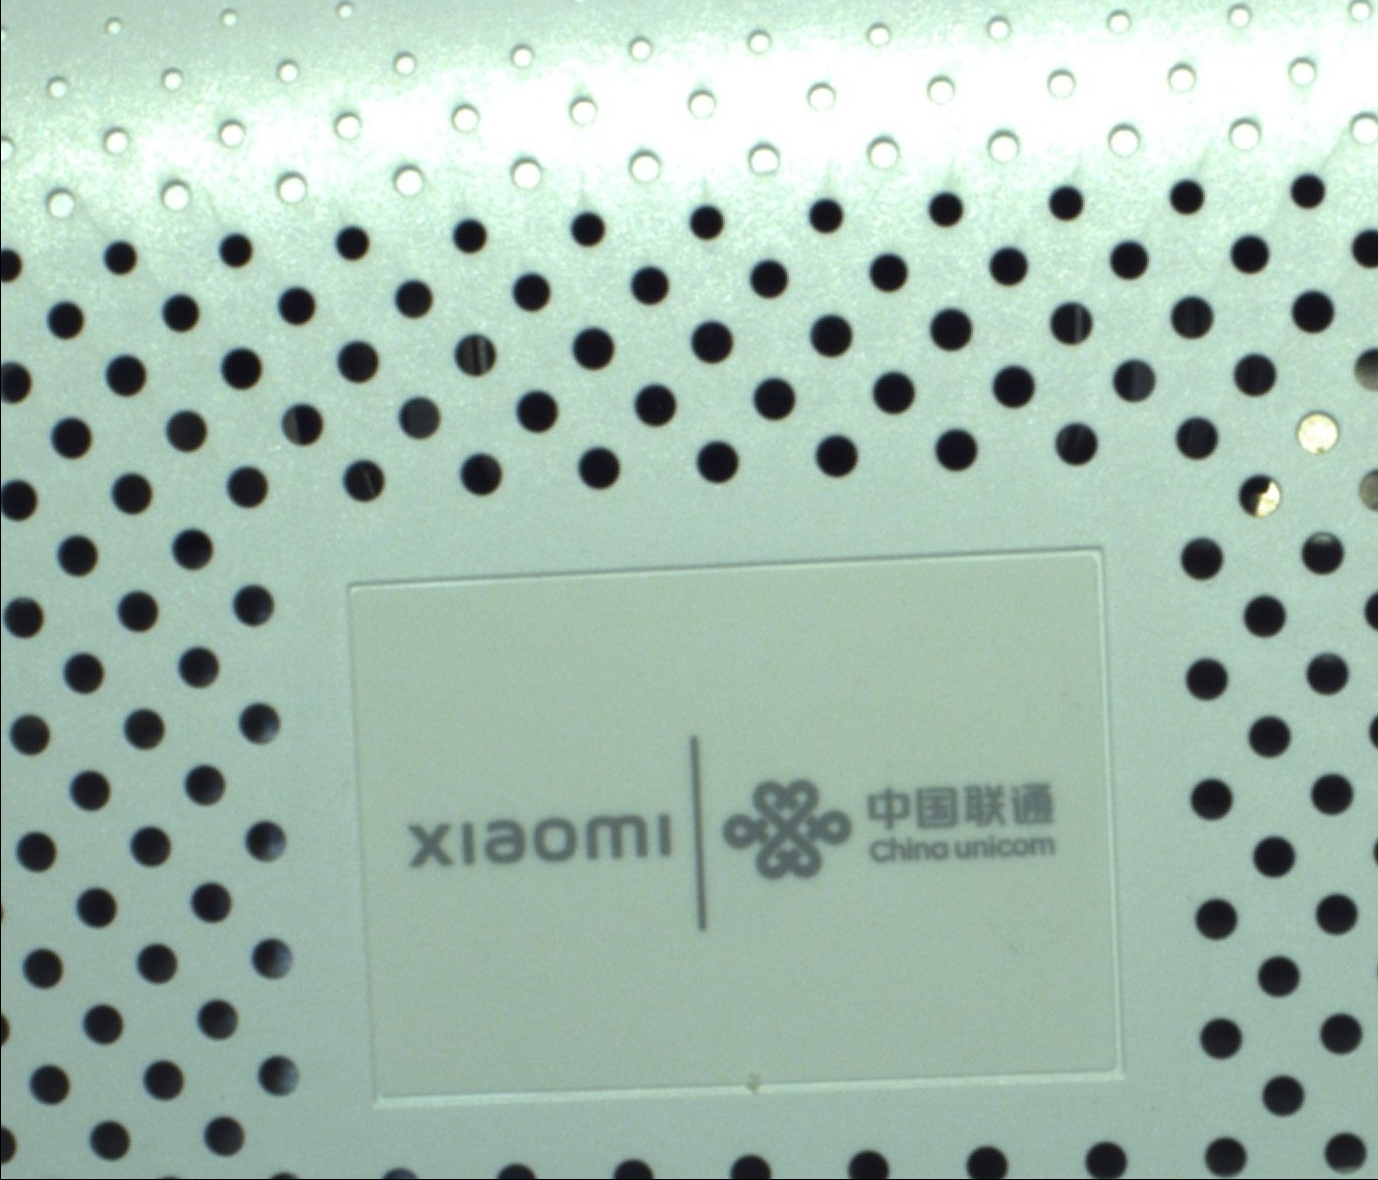MAC_NewUnicom: (383, 727, 1071, 925)
